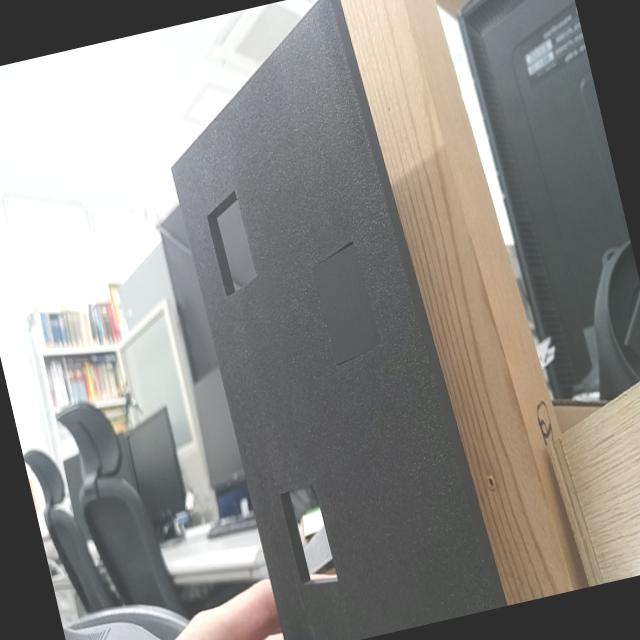Obstacle: (280, 485, 338, 583), (208, 195, 257, 292)
Wall: (169, 0, 496, 640)
